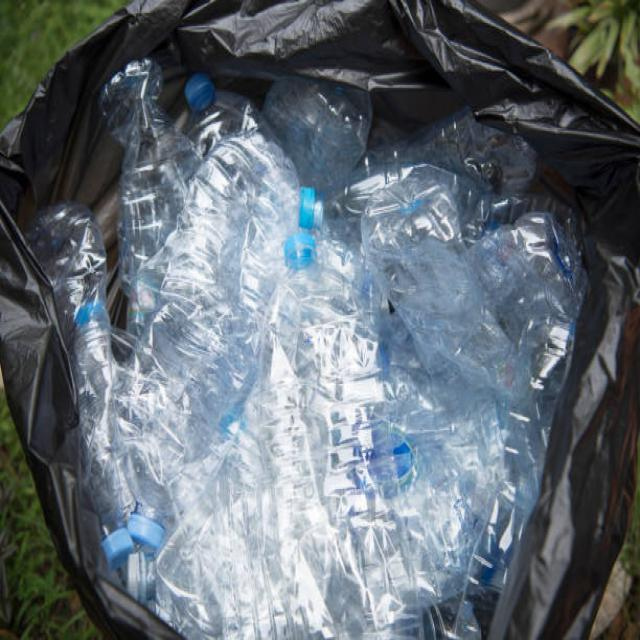plastic: (86, 145, 500, 637)
